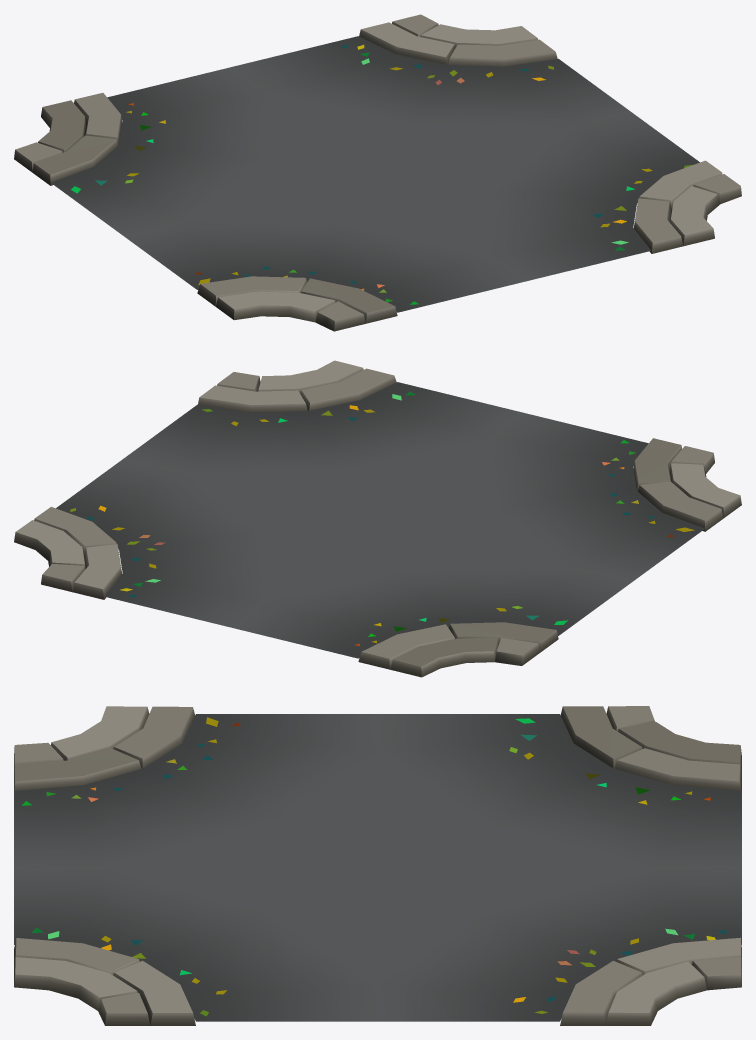
The model's file is Country_Road_1D.fbx.
3 renders of one model, top to bottom at view 1: azimuth 30°, elevation 25°; view 2: azimuth 150°, elevation 25°; view 3: azimuth 270°, elevation 25°, orthographic. The views are drawn at different scales.
Parts seen in each view (by area): view 1: Country_Road_1D, Country_Road_1D_Leaves; view 2: Country_Road_1D, Country_Road_1D_Leaves; view 3: Country_Road_1D, Country_Road_1D_Leaves.
Boxes of the visible parts, left/top/right/bottom form: Country_Road_1D: left=14, top=14, right=741, bottom=331; Country_Road_1D_Leaves: left=71, top=44, right=692, bottom=304; Country_Road_1D: left=14, top=360, right=741, bottom=677; Country_Road_1D_Leaves: left=70, top=391, right=694, bottom=646; Country_Road_1D: left=14, top=706, right=741, bottom=1025; Country_Road_1D_Leaves: left=22, top=717, right=727, bottom=1016.
Bounding box in the file's own units: 1600 × 30 × 1600.
